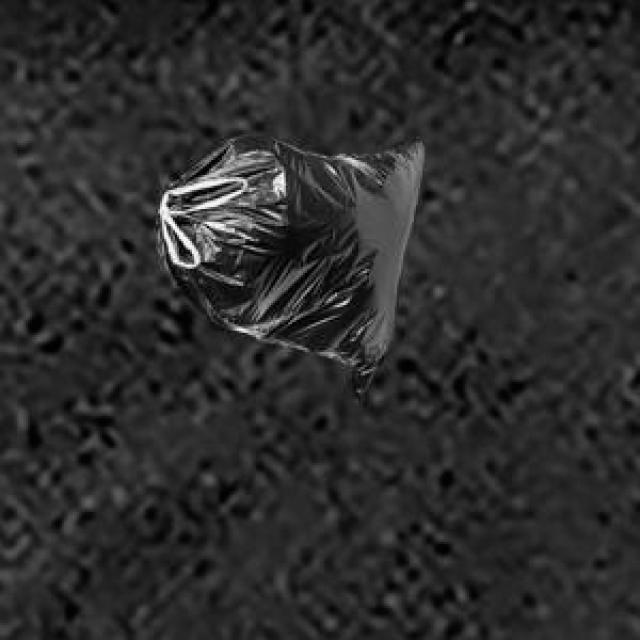miscellaneous trash: (152, 130, 420, 399)
